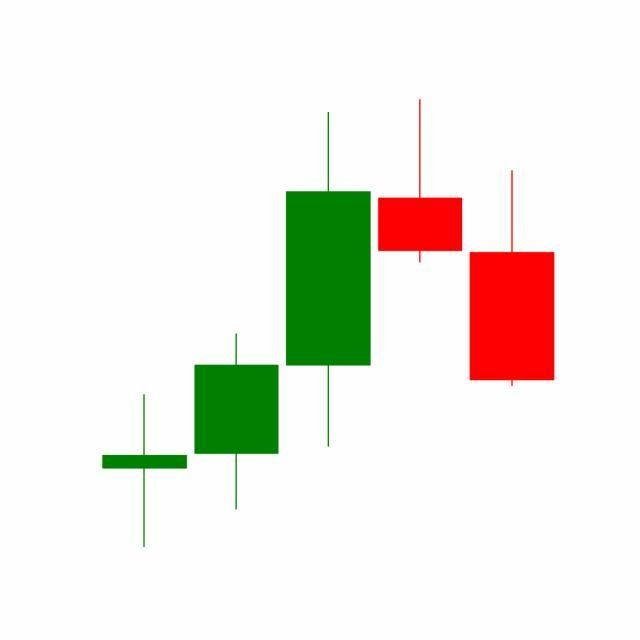Three Inside Up-Down: (280, 99, 555, 453)
